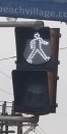walk: (12, 25, 58, 69)
